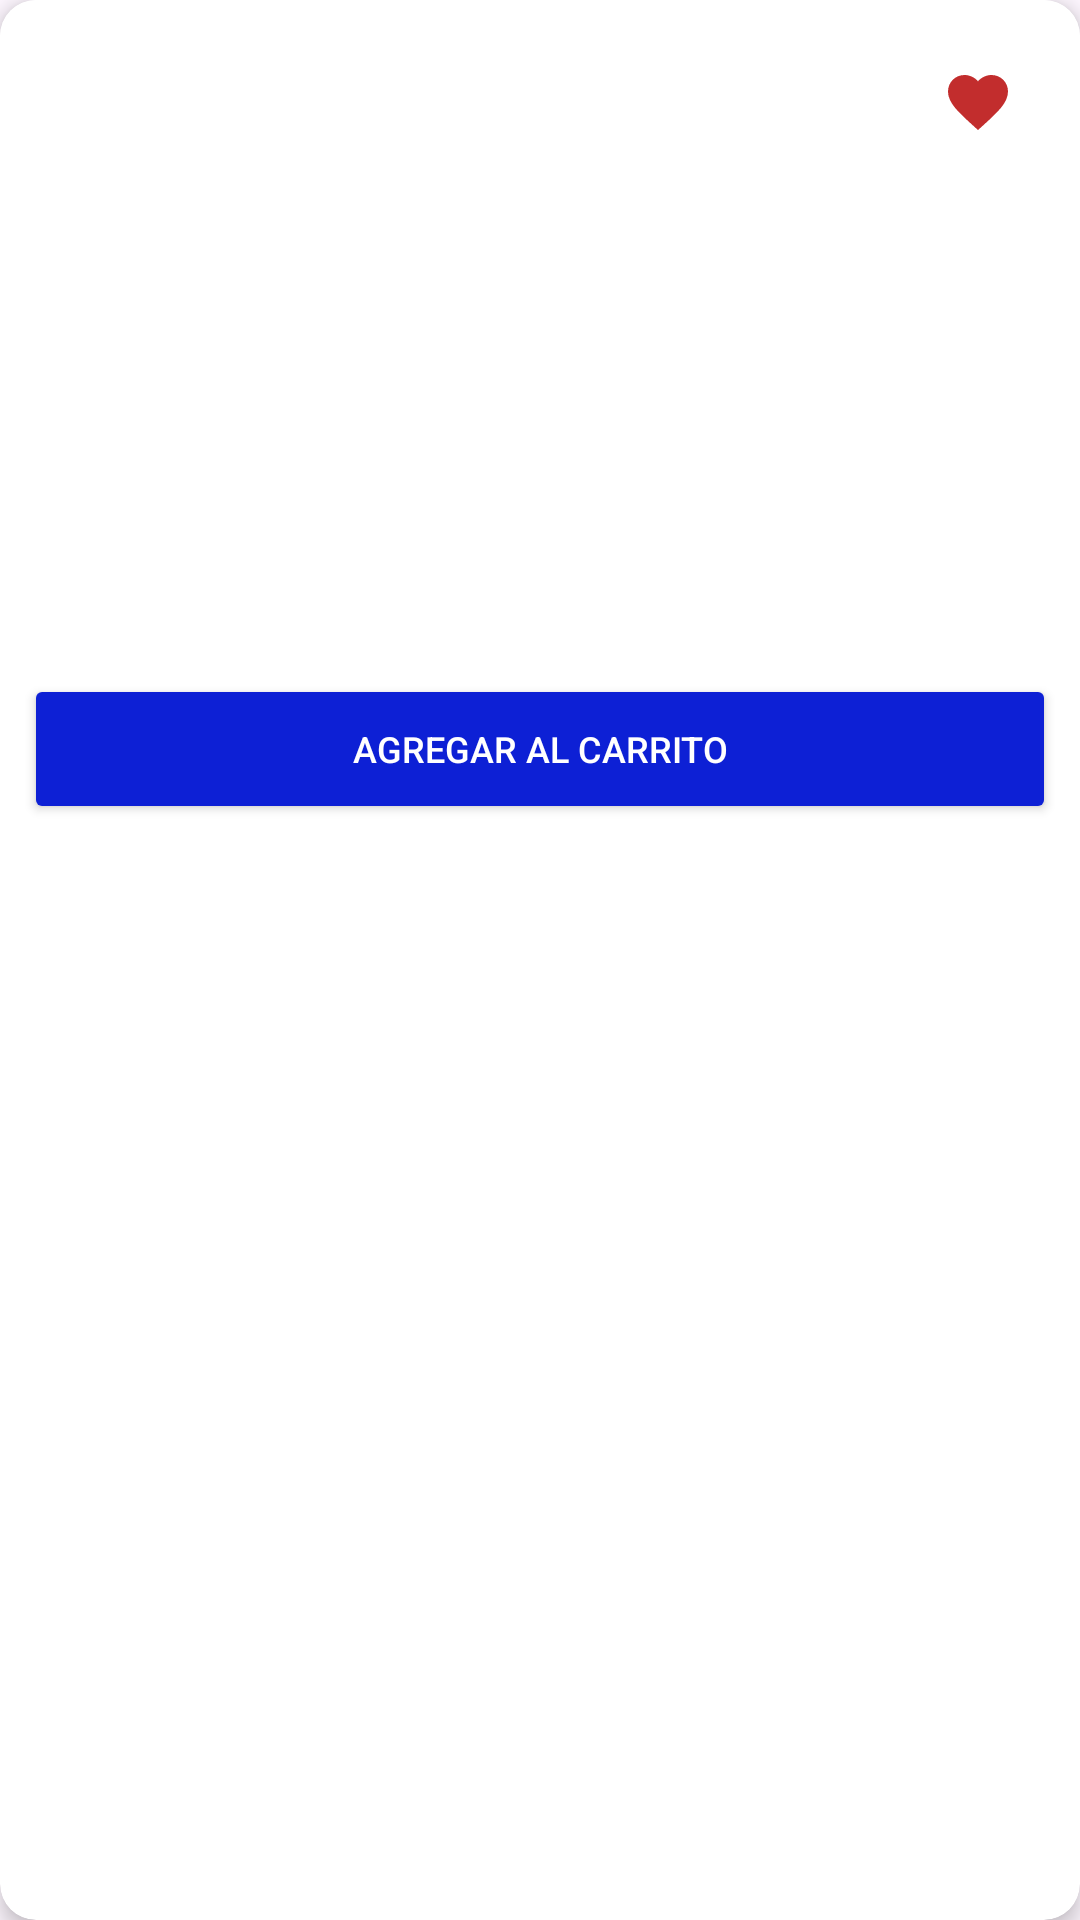

Icon click points for this 1080 × 1920 phone screenshot, format [x,y]:
Agregar a favoritos: [978,102]
